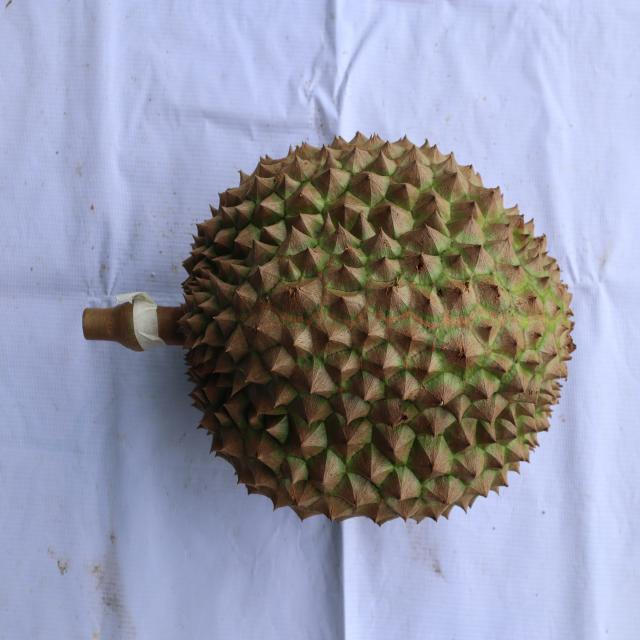mature: (179, 130, 579, 528)
